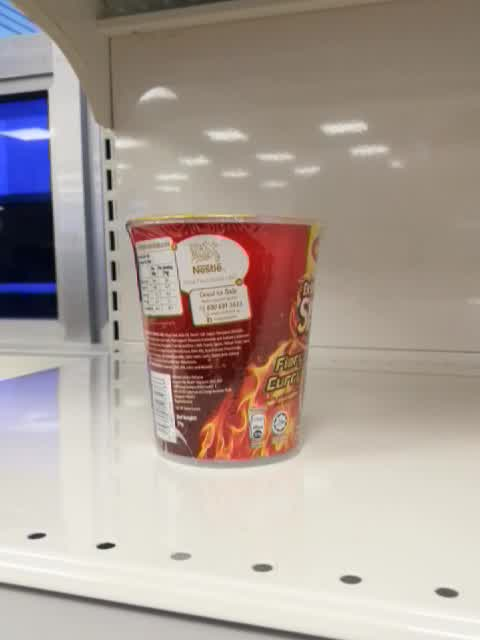maggi: (125, 214, 325, 470)
